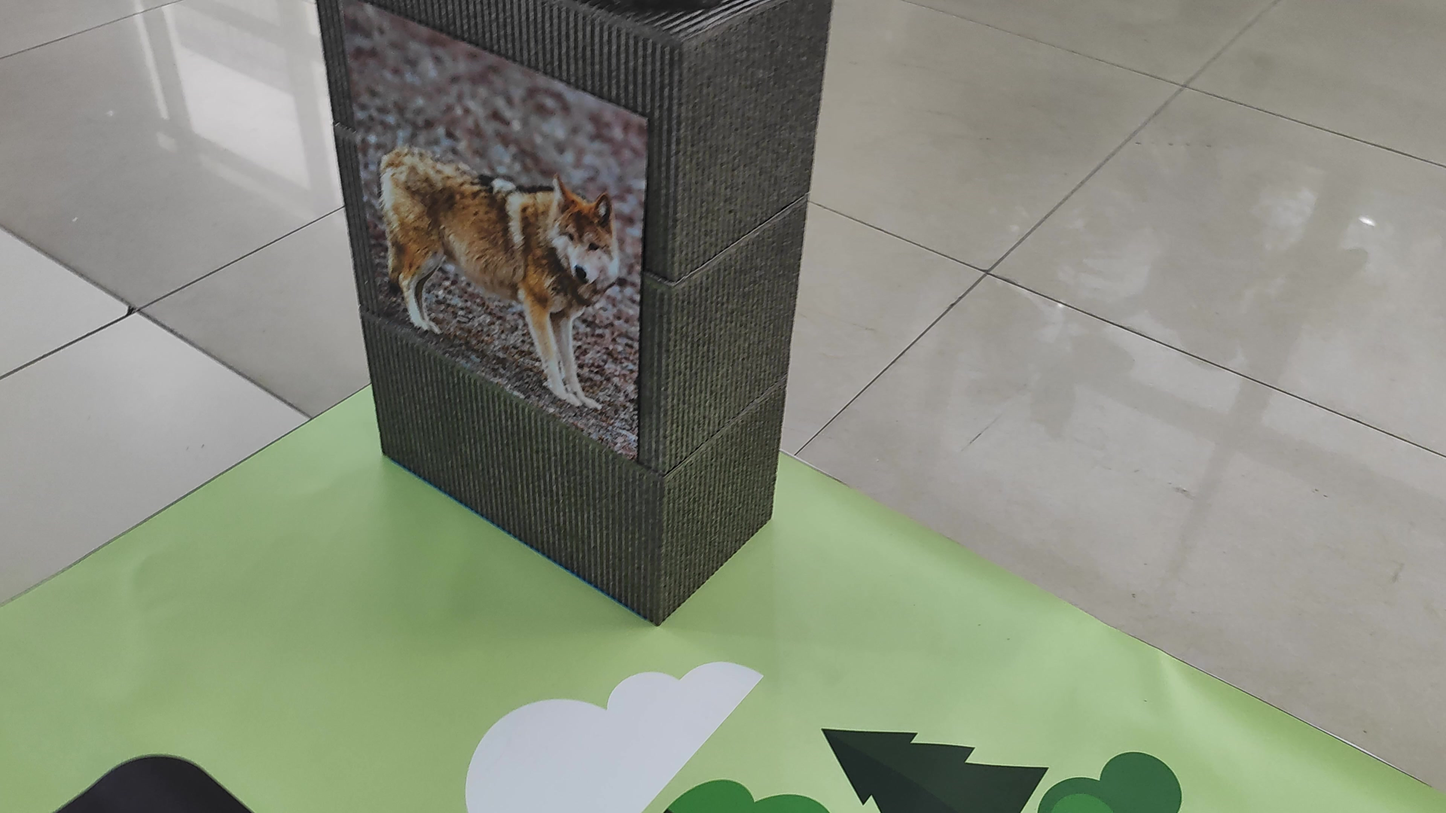wolf: (346, 122, 649, 408)
